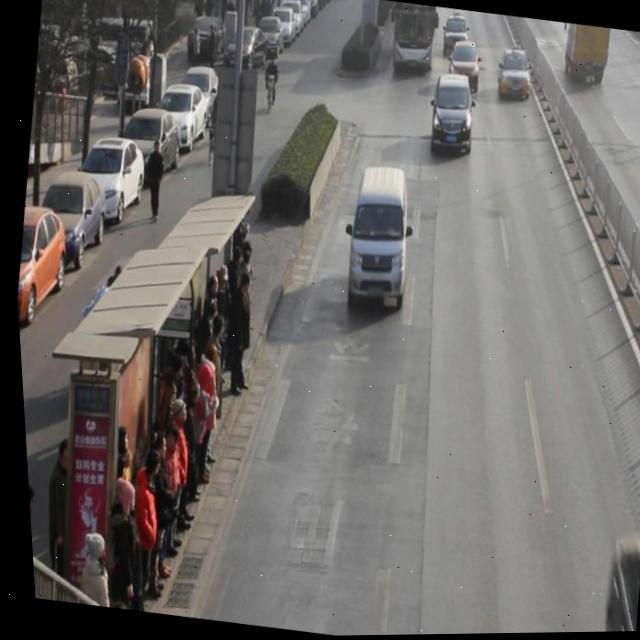bus: (560, 24, 614, 88)
car: (588, 531, 640, 633), (424, 73, 480, 163), (494, 49, 536, 106), (444, 39, 484, 96), (440, 17, 472, 62)
truck: (335, 164, 418, 317)
van: (386, 2, 441, 74)
